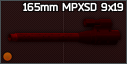MPX-SD 9x19 165mm barrel: (0, 0, 127, 64)
